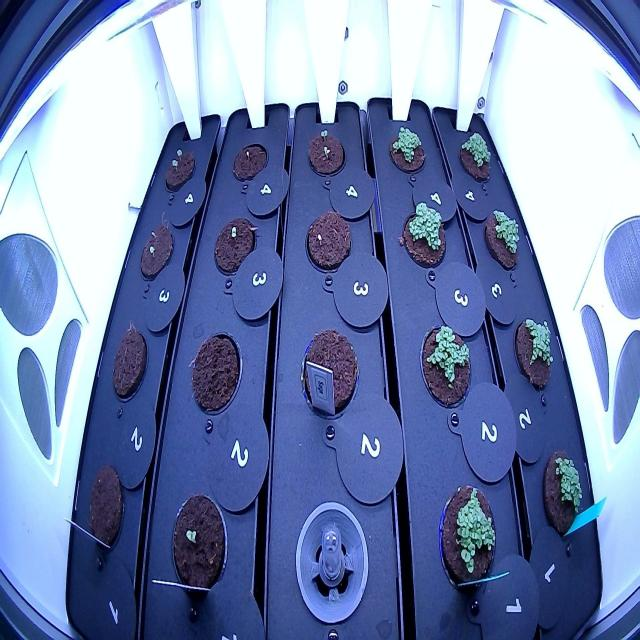germination: (434, 473, 504, 615), (166, 484, 231, 613), (416, 316, 478, 418), (539, 443, 591, 545), (512, 307, 564, 399), (398, 192, 452, 279), (480, 199, 524, 280), (454, 121, 499, 197), (210, 212, 260, 278), (384, 116, 434, 180), (136, 220, 175, 286), (302, 124, 348, 178), (161, 142, 197, 194)
pod: (297, 322, 361, 425), (190, 328, 244, 419), (84, 455, 127, 562), (302, 203, 354, 278), (108, 322, 150, 407), (230, 139, 270, 186)
